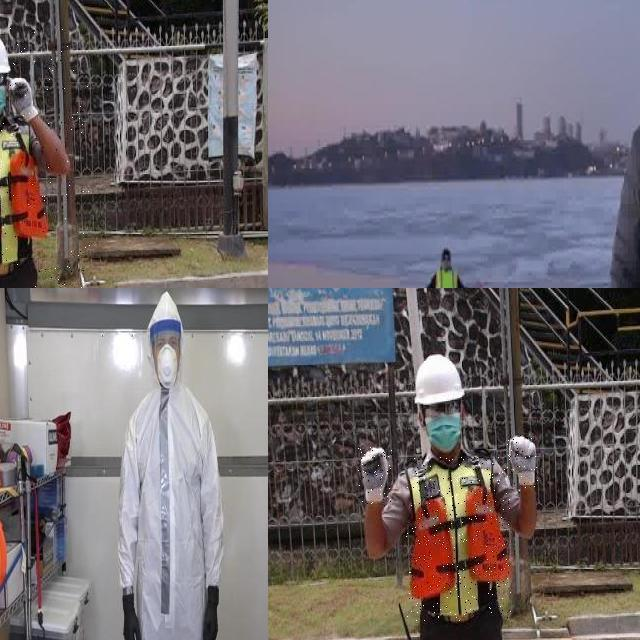GLASS: (421, 401, 463, 420), (0, 75, 8, 87)
GLOVE: (509, 436, 538, 490), (362, 448, 390, 503), (9, 77, 38, 122)
Glove: (202, 586, 220, 640), (122, 595, 142, 640)
HELMET: (414, 352, 467, 406), (0, 31, 13, 76)
MASK: (156, 344, 178, 390)
VEST: (406, 457, 511, 621), (0, 121, 49, 267), (431, 268, 463, 288)
